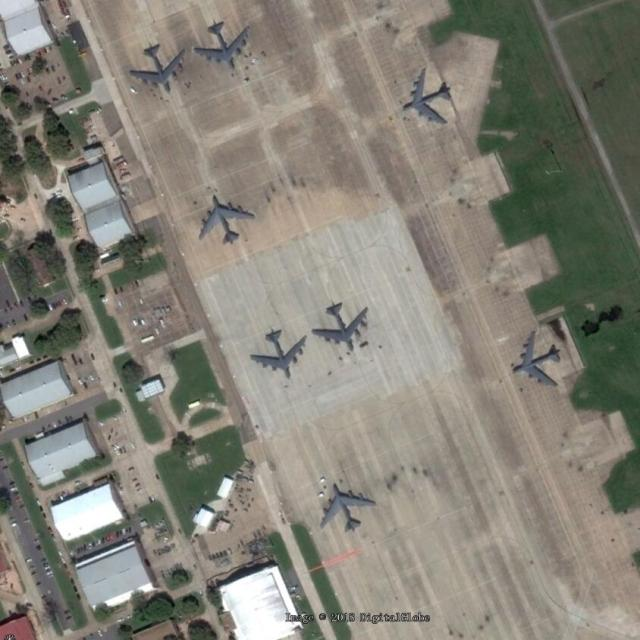fighter jet: (502, 328, 568, 392), (196, 191, 256, 249), (402, 69, 453, 135), (316, 482, 378, 536), (250, 328, 308, 382), (196, 20, 253, 73), (135, 42, 186, 97), (317, 300, 373, 350)
